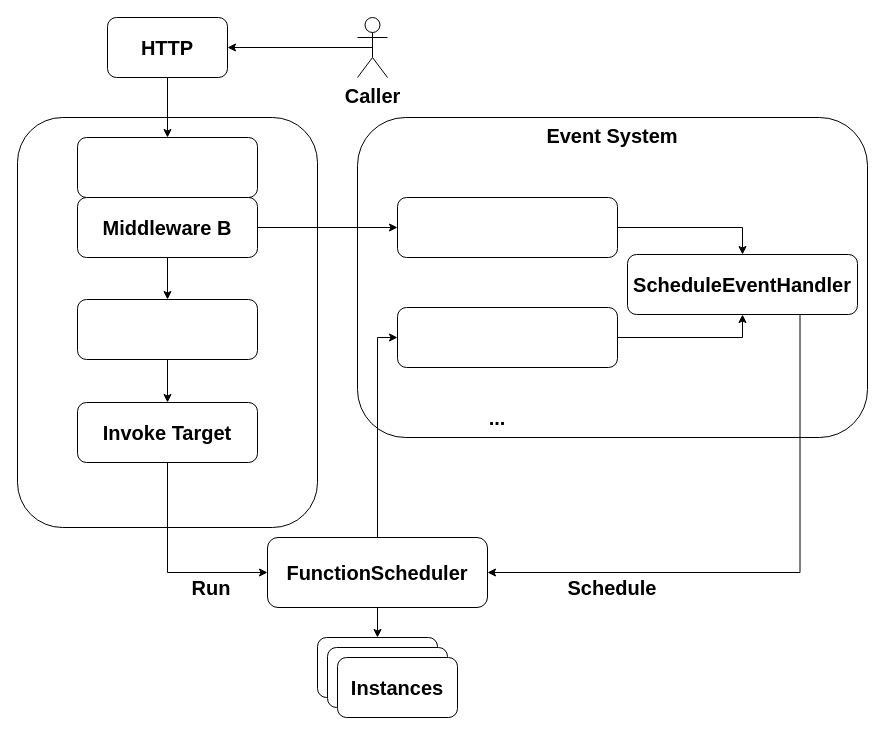
Some shapes in this 885 by 735 pixel diagram are drawn without their labels. The shapes that lost their labels are listed below. From the top down, each one's centre as x and y in pixels, then its label:
At [167,167]: "Middleware A".
At [507,227]: "InvokeEventHandler".
At [167,329]: "Choose Target".
At [507,337]: "MemoryEventHandler".
